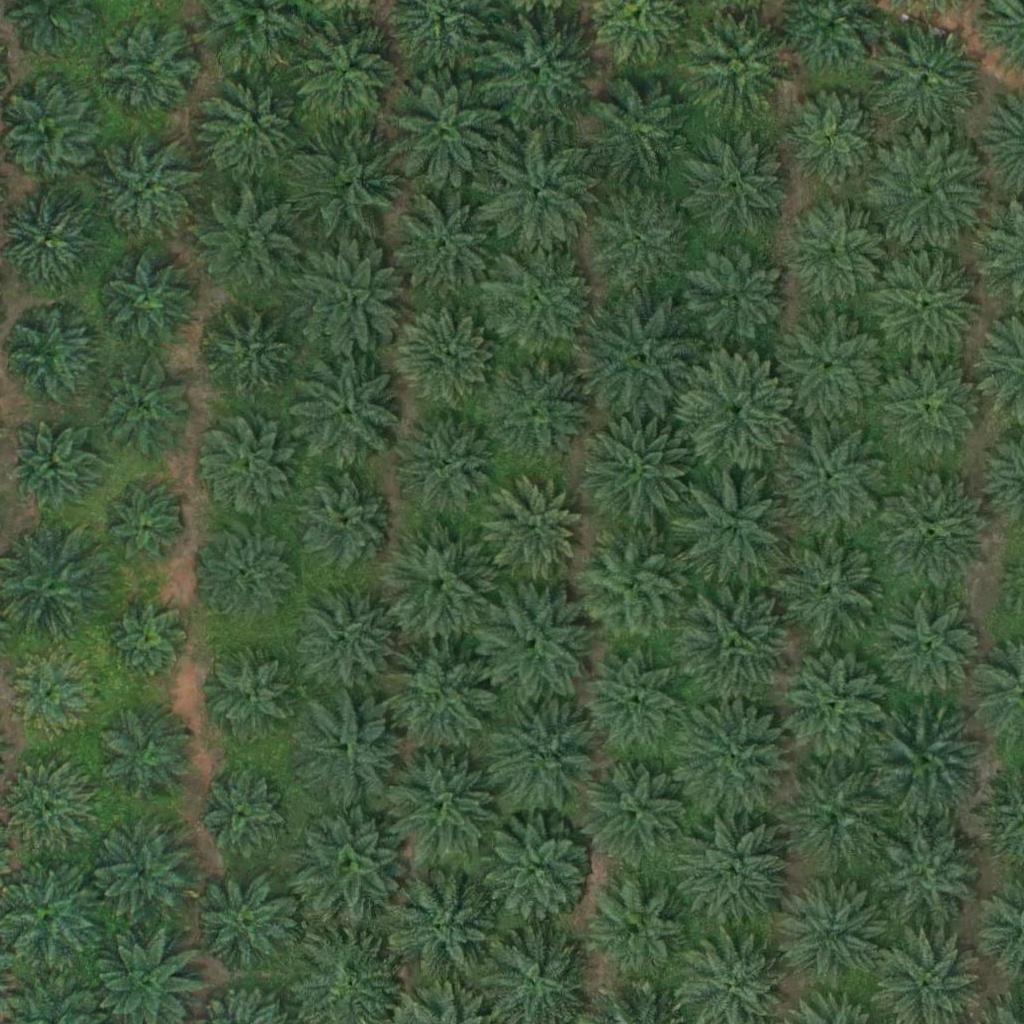Kelapa_Sawit: (585, 72, 698, 186), (574, 528, 687, 642), (679, 586, 792, 700), (679, 704, 792, 818), (778, 760, 891, 874), (779, 875, 892, 989), (869, 22, 982, 135), (874, 136, 987, 249), (681, 355, 794, 468), (678, 467, 791, 580), (582, 185, 695, 298), (587, 304, 700, 417), (580, 416, 693, 529), (482, 16, 595, 129), (484, 138, 597, 251), (289, 240, 402, 353), (289, 356, 402, 469), (287, 468, 400, 581), (288, 581, 401, 694), (294, 694, 407, 807), (294, 808, 407, 921), (384, 749, 497, 862), (386, 875, 499, 988), (675, 817, 788, 930), (679, 7, 791, 121), (875, 250, 987, 364), (678, 131, 790, 245), (780, 650, 892, 764), (872, 815, 984, 929), (877, 476, 989, 589), (776, 313, 888, 426), (780, 423, 892, 536), (485, 244, 597, 357), (483, 357, 595, 470), (390, 75, 502, 188), (387, 186, 499, 299), (290, 19, 402, 132), (293, 134, 405, 247), (95, 134, 207, 247), (380, 527, 492, 640), (383, 643, 495, 756), (482, 587, 594, 700), (488, 699, 600, 812), (482, 811, 594, 924), (581, 754, 693, 867), (774, 532, 886, 645), (872, 708, 984, 821), (486, 476, 586, 577), (394, 308, 494, 409), (399, 414, 499, 515), (197, 78, 297, 179), (194, 191, 294, 292), (196, 304, 296, 405), (104, 17, 204, 118), (97, 251, 197, 352), (99, 700, 199, 801), (94, 825, 194, 926), (200, 650, 300, 751), (193, 873, 293, 974), (590, 877, 690, 978), (882, 597, 982, 698), (880, 360, 980, 460), (781, 92, 881, 192), (786, 206, 886, 306), (689, 250, 789, 350), (197, 420, 297, 520), (197, 524, 297, 624), (95, 356, 195, 456), (585, 655, 685, 755), (6, 653, 94, 741), (107, 593, 195, 681), (197, 769, 285, 857), (8, 422, 95, 510), (6, 758, 93, 846), (107, 488, 182, 564)
